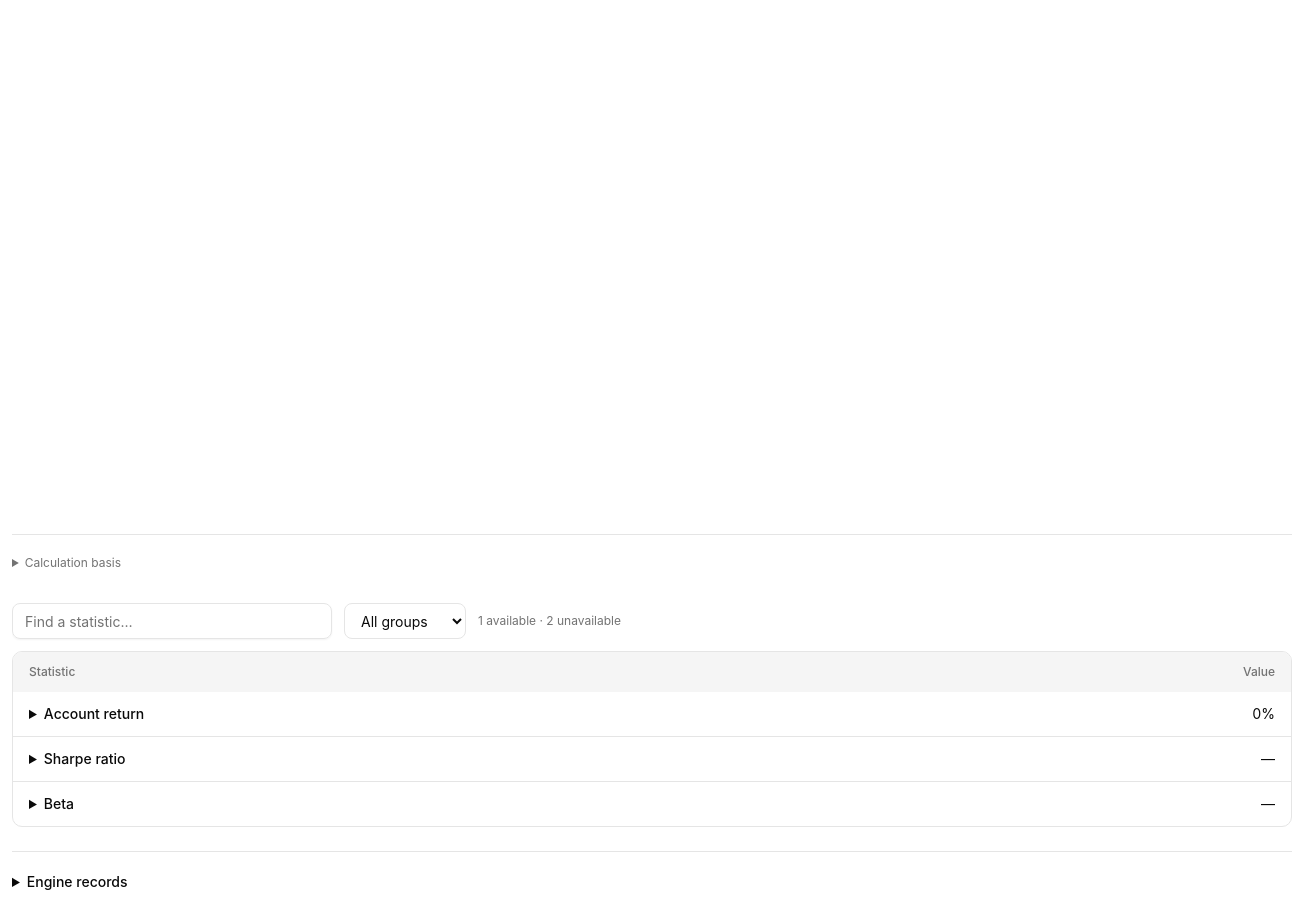
Test case: full portfolio analysis › keeps large native record sets bounded and searchable
This screenshot has width=1304, height=900.
(page scrolled)
Click the heading "Engine records" at (77, 882), box [27, 873, 128, 890]
(page scrolled)
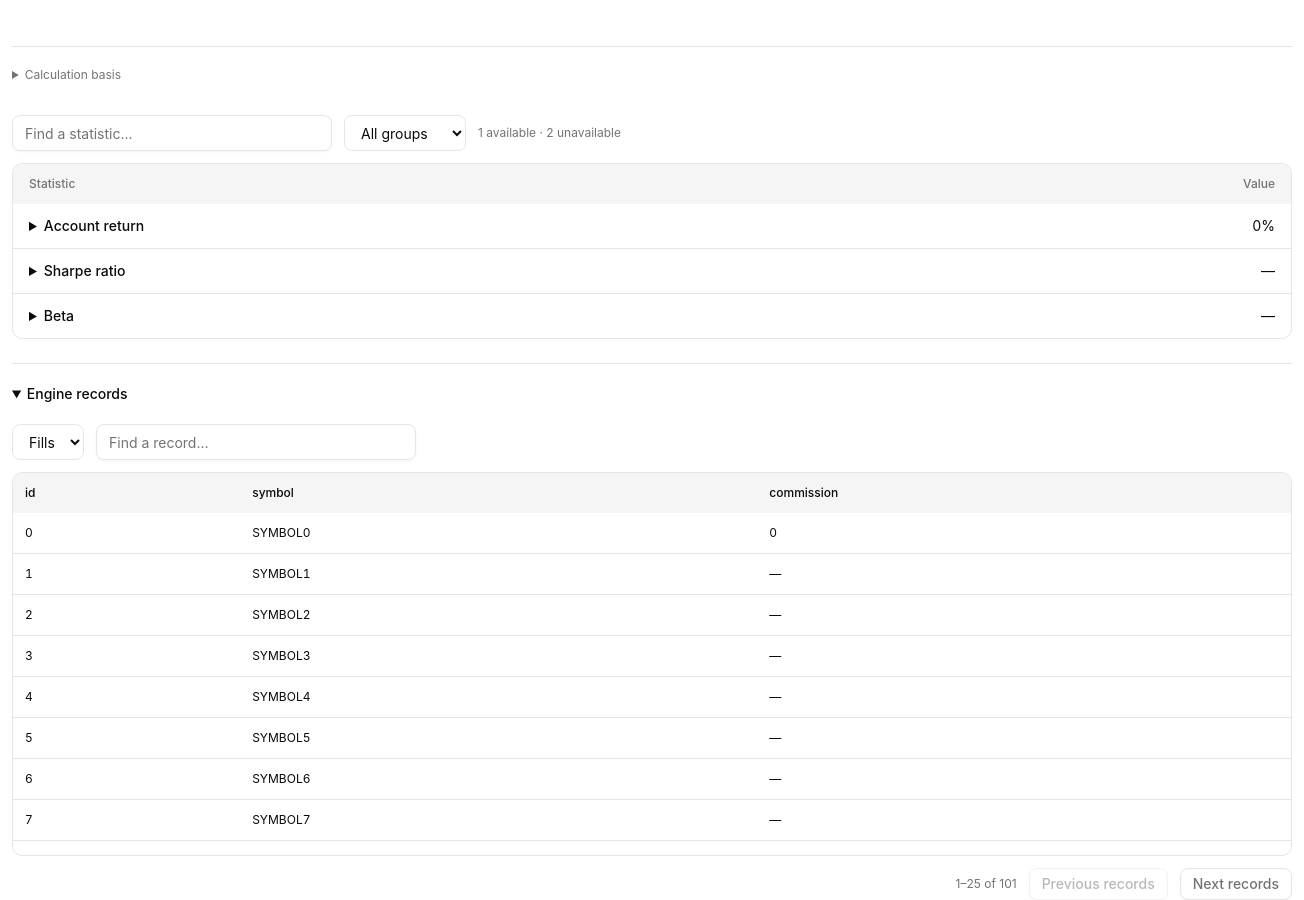
Click the button "Next records" at (1236, 884), box [1180, 868, 1292, 899]
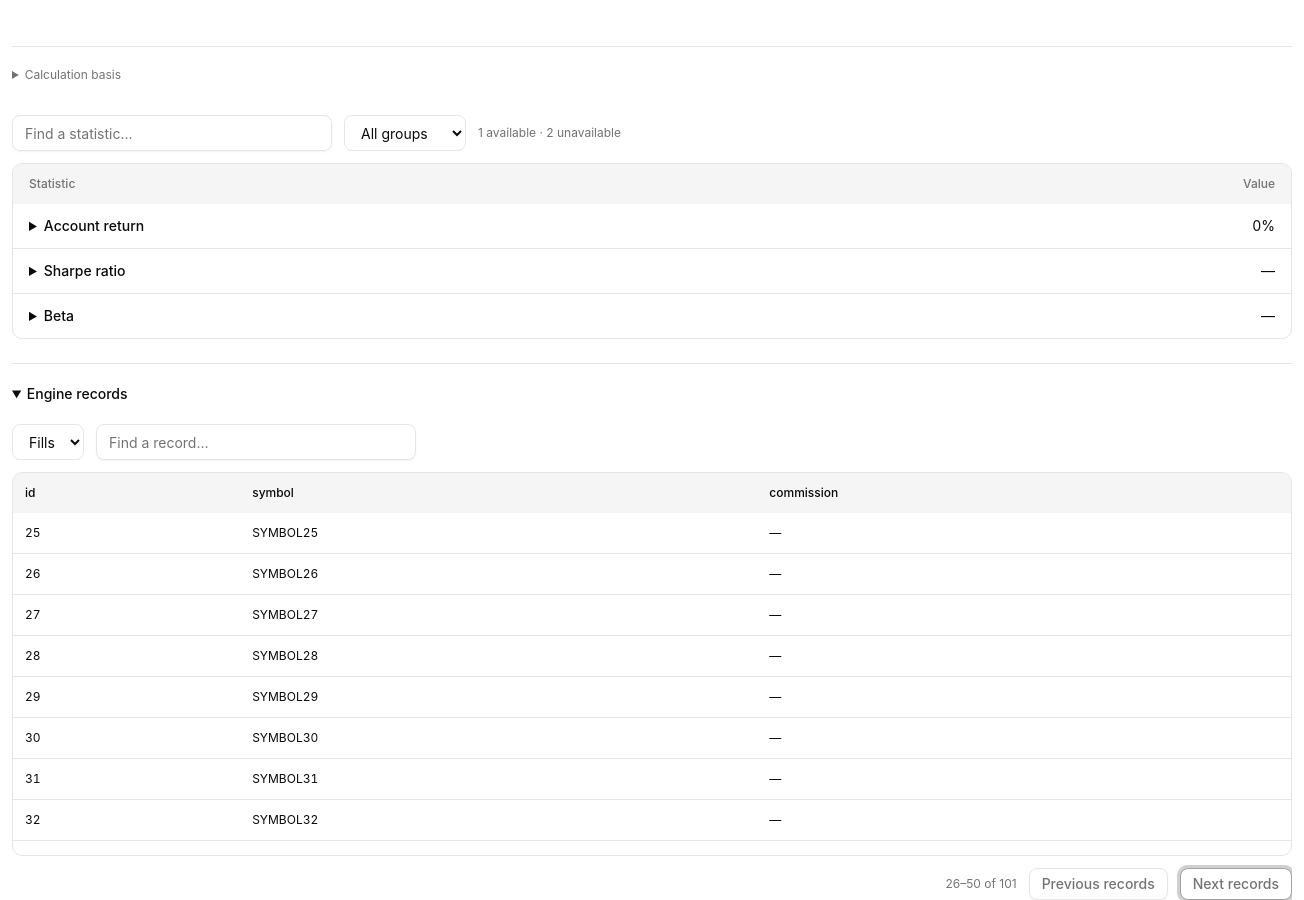
Expected: the text "26–50 of 101" is shown, [945, 876, 1017, 892]
Type "SYMBOL100" into the field named "Find an engine record" at (256, 442), box [96, 424, 416, 460]
(page scrolled)
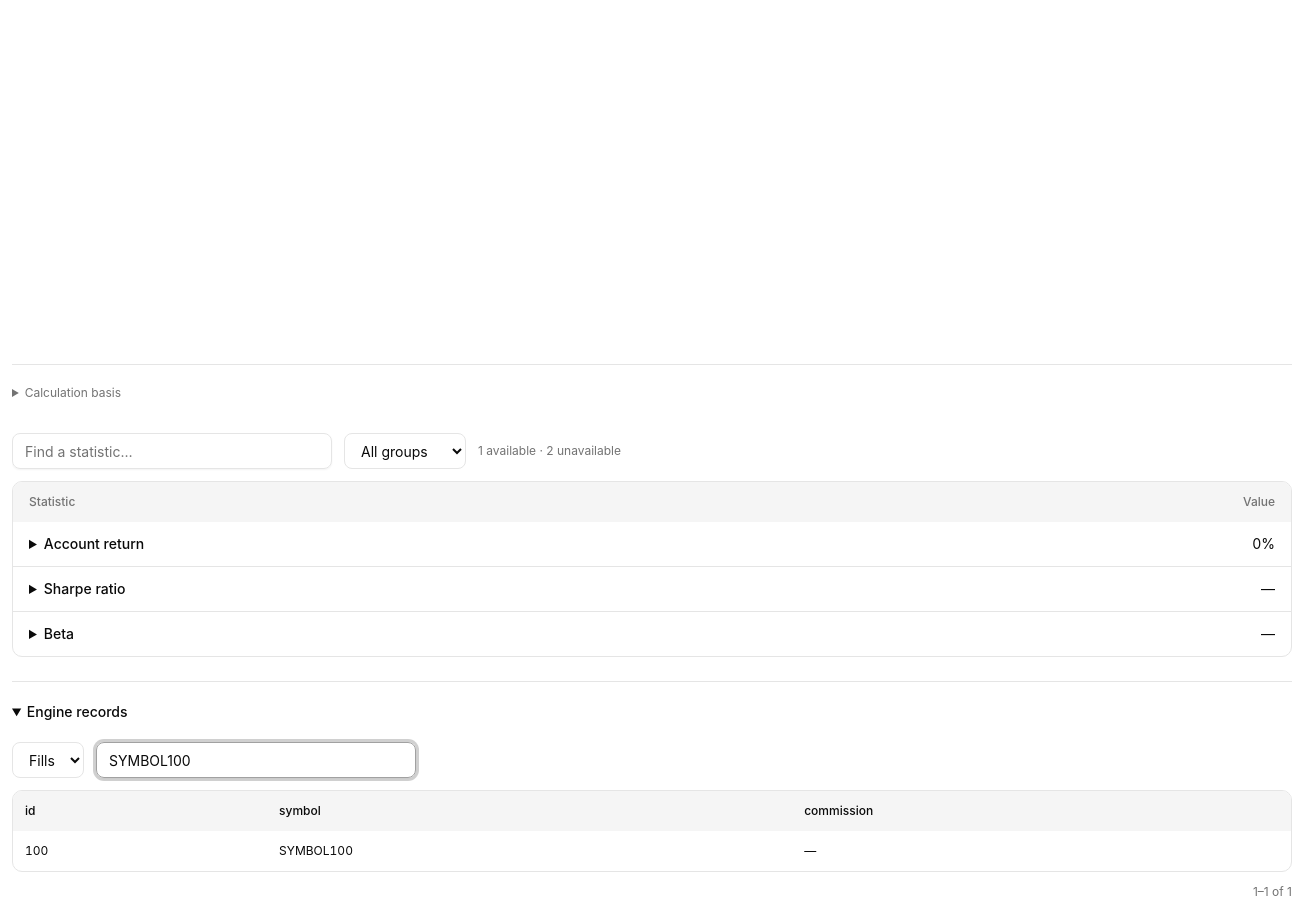
Expected: the text "1–1 of 1" is shown, [1253, 884, 1292, 899]
